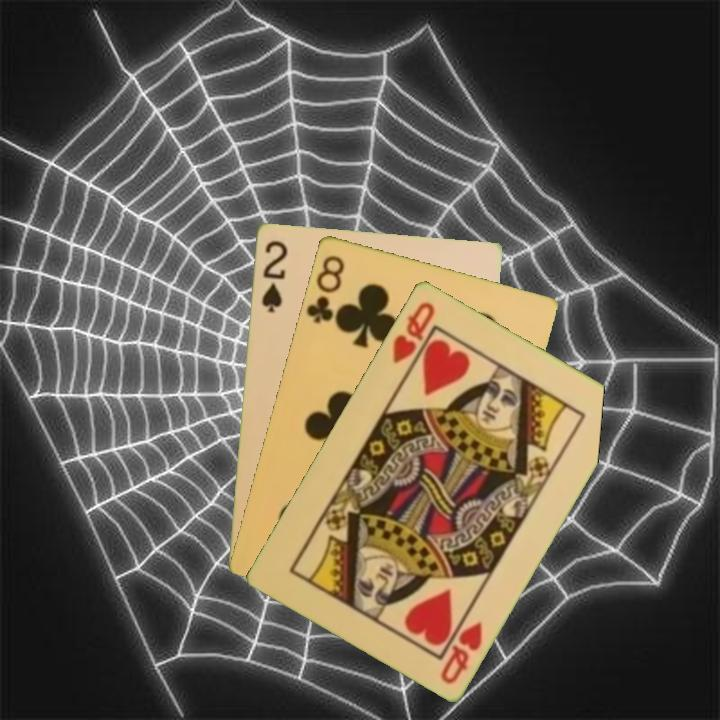2s: (258, 236, 290, 315)
8c: (302, 251, 347, 326)
Qh: (388, 297, 438, 366), (436, 618, 485, 687)
